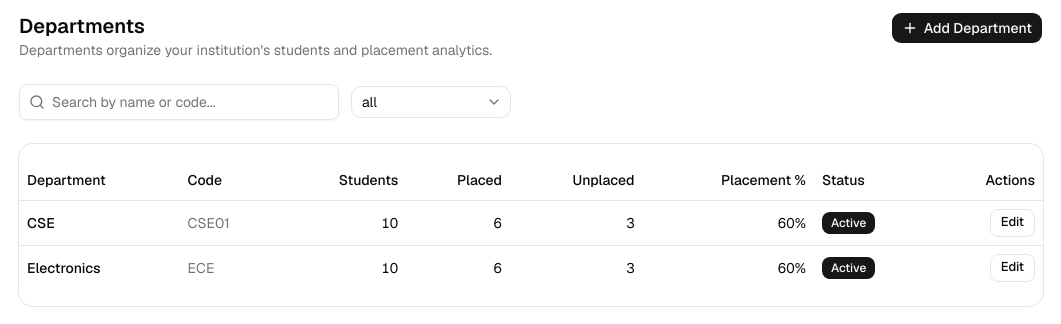
Scenario: DepartmentList › search matches by code as well as name
Expected: the text "CSE" is shown, [19,200,180,245]
Type "ece" into the field named "Search departments" at (179, 102), box [19,84,339,120]
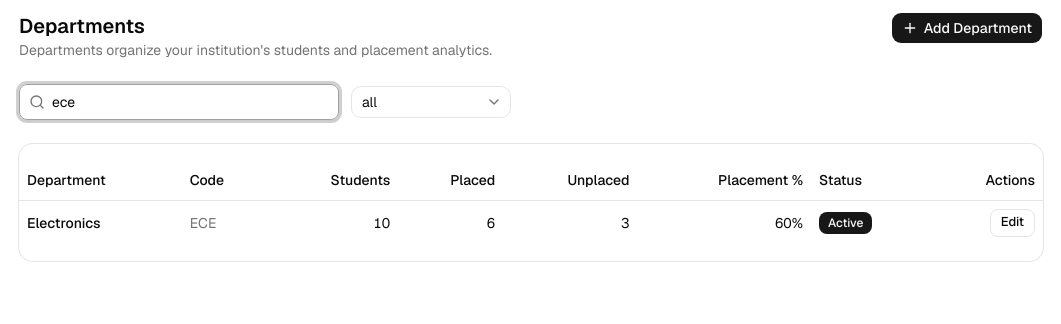
Expected: the text "Electronics" is shown, [19,200,182,244]
Expected: the text "CSE" is gone
